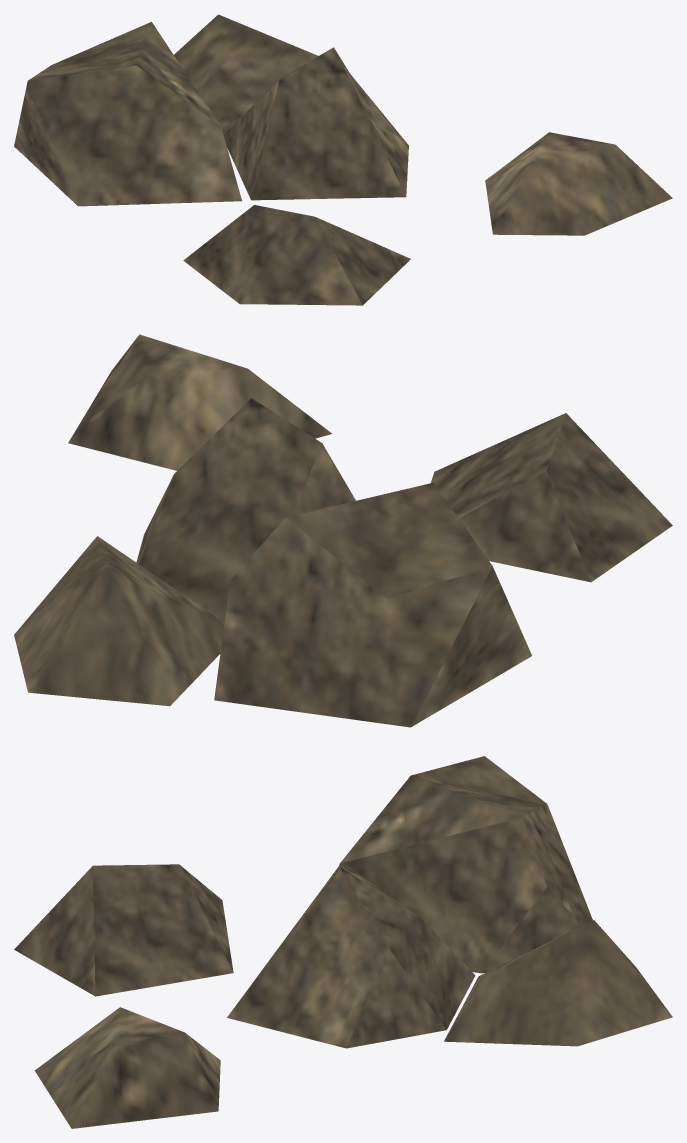
Rendered from rock_gclump3.glb.
The picture shows the model from 3 angles, top to bottom: view 1: azimuth 30°, elevation 25°; view 2: azimuth 150°, elevation 25°; view 3: azimuth 270°, elevation 25°; orthographic projection. The views are drawn at different scales.
Parts seen in each view (by area): view 1: Rock_GClump3; view 2: Rock_GClump3; view 3: Rock_GClump3.
Part boxes in pixels (left/top/right/bottom): Rock_GClump3: left=14, top=14, right=672, bottom=305; Rock_GClump3: left=14, top=334, right=672, bottom=727; Rock_GClump3: left=14, top=756, right=672, bottom=1128.
Bounding box in the file's own units: 22.71 × 5.89 × 24.36.
Materials: 1 (1 with a texture image).
